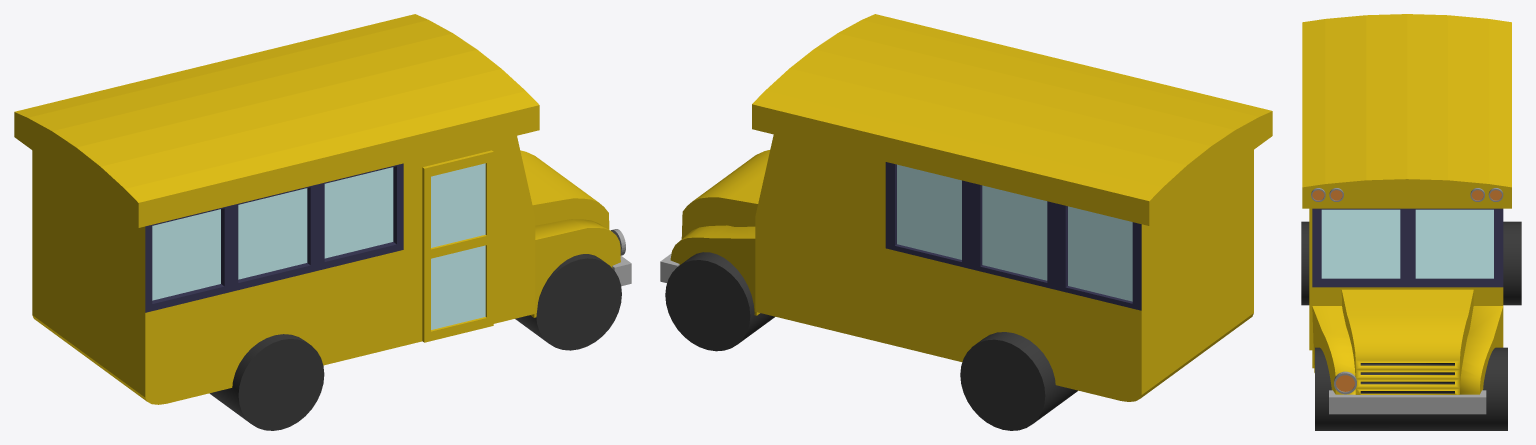
Rendered from Bus.fbx.
3 views of the same model, side by side, from view 1: azimuth 30°, elevation 25°; view 2: azimuth 150°, elevation 25°; view 3: azimuth 270°, elevation 25° (orthographic). The views are drawn at different scales.
Visible parts, largest first — view 1: Cube.025, Cube.021, Cube, Cylinder.005, Cylinder.006, Cube.026, Cube.027; view 2: Cube.025, Cube.021, Cylinder.005, Cylinder.006, Cube.027, Cube.026; view 3: Cube.021, Cube.025, Cube.027, Cylinder.006, Cube.026, Cube.033, Cylinder.005, Cylinder.012, Cube, Cylinder.011.
Boxes of the visible parts, bbox=[...] form: Cube.025: bbox=[32, 136, 535, 404]; Cube.021: bbox=[14, 14, 539, 227]; Cube: bbox=[422, 150, 493, 342]; Cylinder.005: bbox=[209, 334, 324, 430]; Cylinder.006: bbox=[515, 254, 621, 350]; Cube.026: bbox=[530, 219, 620, 317]; Cube.027: bbox=[520, 150, 609, 229]; Cube.025: bbox=[755, 134, 1253, 401]; Cube.021: bbox=[752, 14, 1272, 225]; Cylinder.005: bbox=[960, 332, 1077, 430]; Cylinder.006: bbox=[665, 252, 775, 351]; Cube.027: bbox=[681, 150, 769, 238]; Cube.026: bbox=[670, 225, 759, 315]; Cube.021: bbox=[1302, 14, 1511, 208]; Cube.025: bbox=[1312, 208, 1503, 368]; Cube.027: bbox=[1341, 289, 1473, 394]; Cylinder.006: bbox=[1315, 347, 1507, 430]; Cube.026: bbox=[1312, 306, 1503, 394]; Cube.033: bbox=[1329, 390, 1486, 414]; Cylinder.005: bbox=[1301, 221, 1521, 305]; Cylinder.012: bbox=[1311, 188, 1503, 201]; Cube: bbox=[1309, 208, 1312, 350]; Cylinder.011: bbox=[1334, 371, 1356, 394].
Size of the model in its own units: 1202 by 612 by 534.
